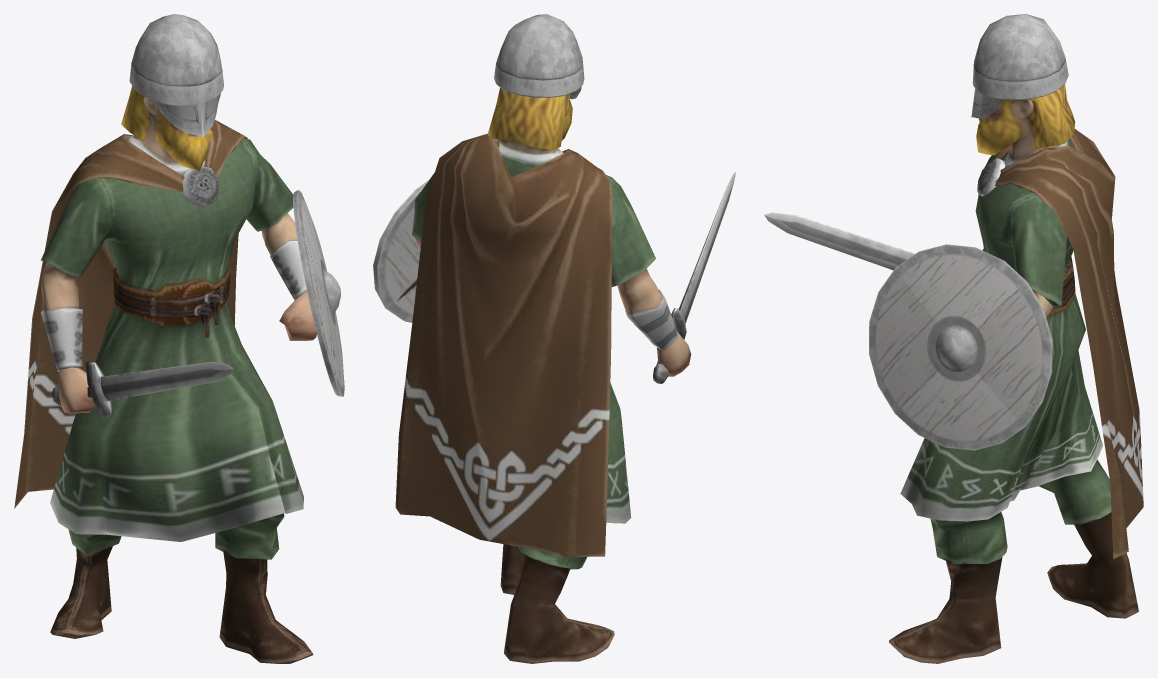
The model's file is 18-huskarl.glb.
3 renders of one model, left to right at view 1: azimuth 30°, elevation 25°; view 2: azimuth 150°, elevation 25°; view 3: azimuth 270°, elevation 25°, orthographic. The views are drawn at different scales.
Bounding box in the file's own units: 1.05 × 2.12 × 1.19.
4 materials, 4 textured.
